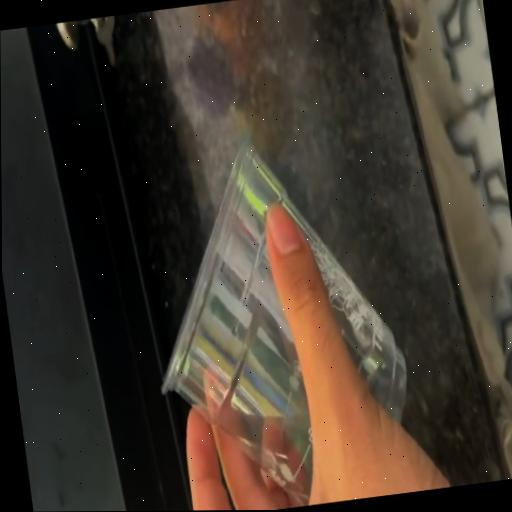ly_nhua: (162, 146, 406, 506), (162, 146, 406, 504)
